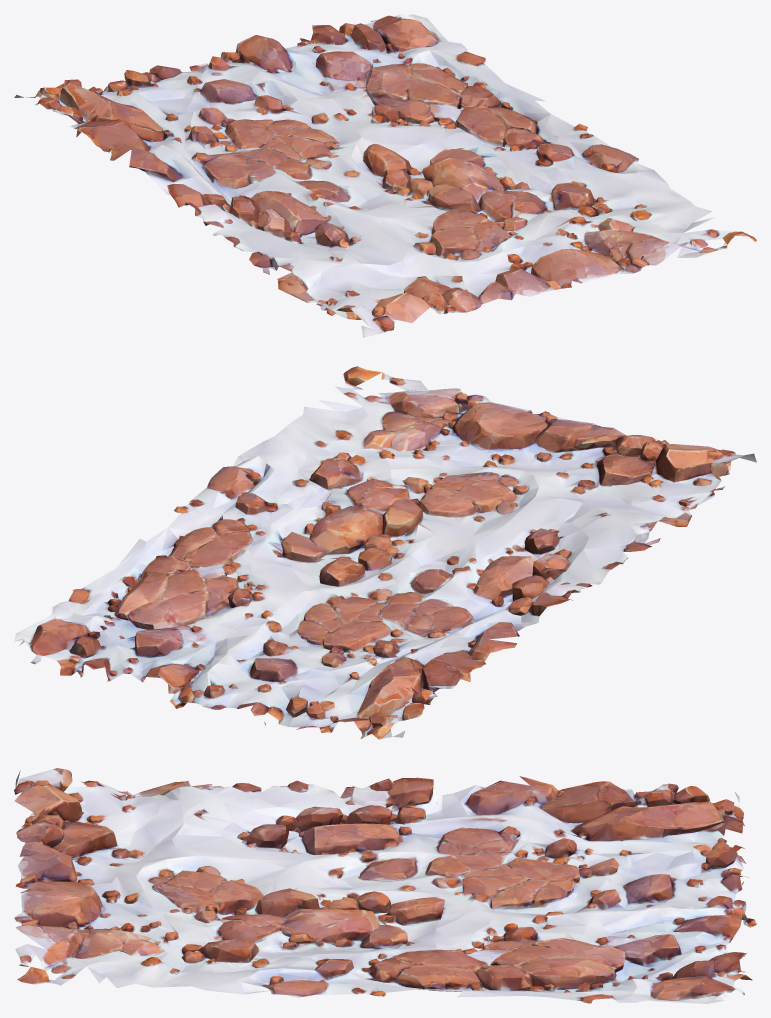
The model's file is suelonevado2.glb.
The picture shows the model from 3 angles, top to bottom: view 1: azimuth 30°, elevation 25°; view 2: azimuth 150°, elevation 25°; view 3: azimuth 270°, elevation 25°; orthographic projection. The views are drawn at different scales.
Visible parts, largest first — view 1: SueloNevado2; view 2: SueloNevado2; view 3: SueloNevado2.
Boxes of the visible parts, x1,y1,x2,y2 form: SueloNevado2: [14, 14, 756, 337]; SueloNevado2: [14, 366, 756, 739]; SueloNevado2: [14, 768, 756, 1003].
Size of the model in its own units: 0.6964 by 0.0827 by 1.05.
1 material, 1 textured.
